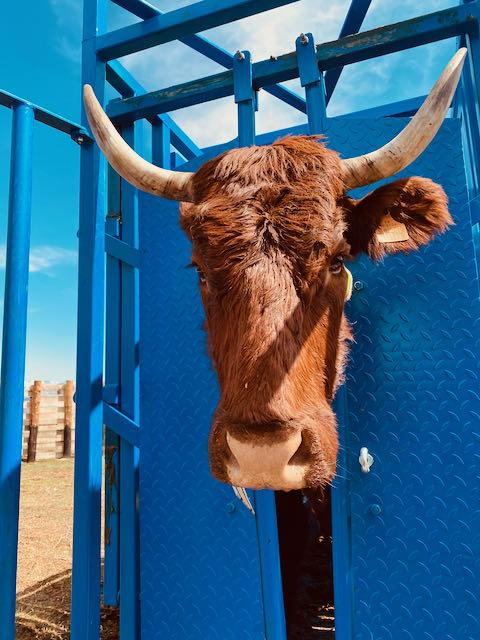muzzles: (199, 420, 347, 497)
